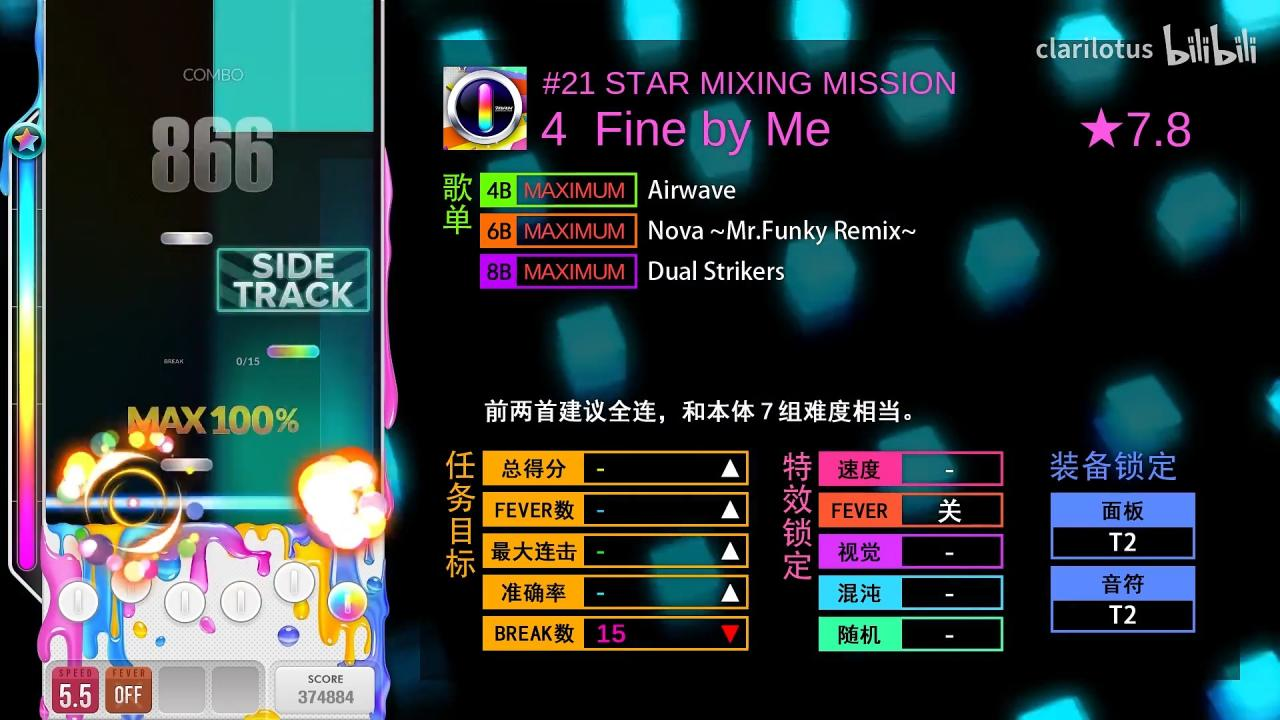note: (160, 458, 213, 472), (160, 231, 212, 245), (268, 345, 320, 359)
side-start: (213, 116, 373, 132)
